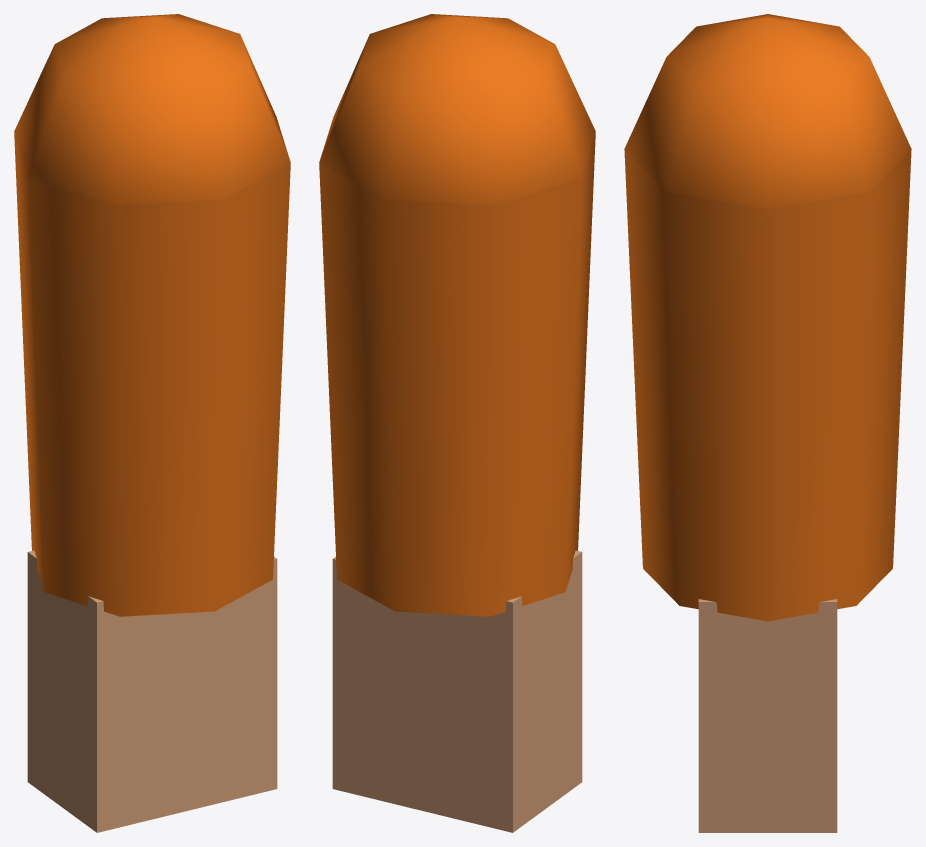
File: PArrodillado_Antebrazo.obj
3 views of the same model, side by side, from view 1: azimuth 30°, elevation 25°; view 2: azimuth 150°, elevation 25°; view 3: azimuth 270°, elevation 25° (orthographic).
Visible parts, largest first — view 1: Antebrazo; view 2: Antebrazo; view 3: Antebrazo.
Part boxes in pixels (box(x1,y1,x2,y2)): Antebrazo: box(14, 14, 290, 832); Antebrazo: box(319, 14, 595, 832); Antebrazo: box(624, 14, 911, 832).
Bounding box in the file's own units: 0.062 × 0.1835 × 0.062.
Materials: 1 (1 with a texture image).
